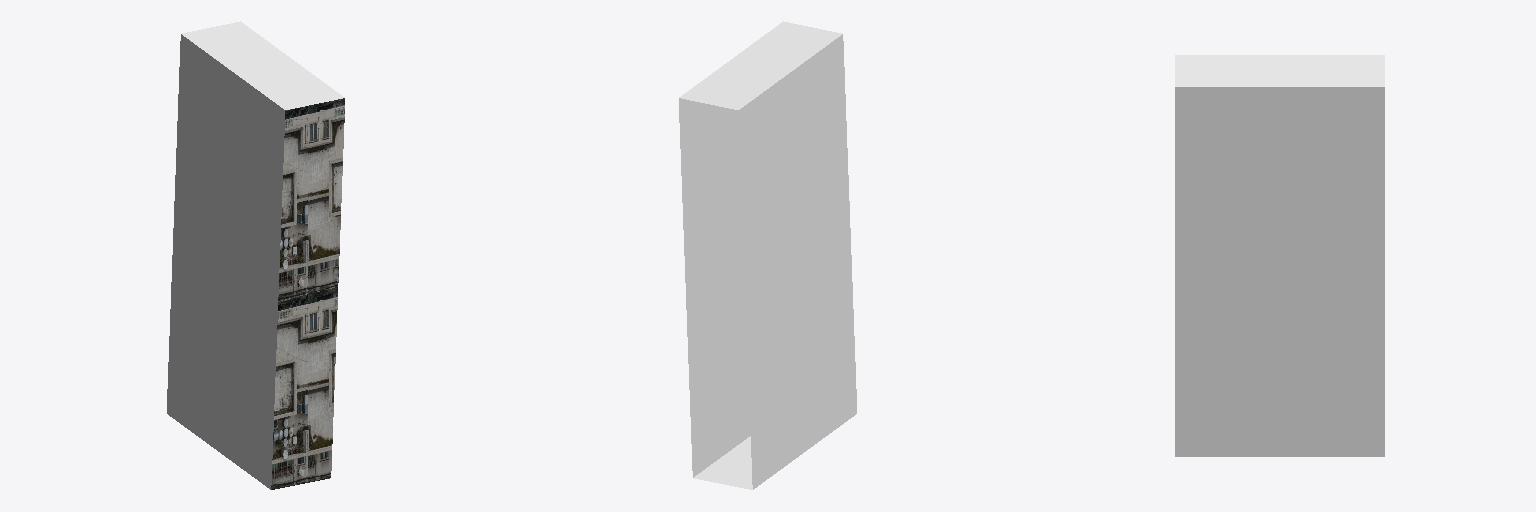
3 views of the same model, side by side, from view 1: azimuth 30°, elevation 25°; view 2: azimuth 150°, elevation 25°; view 3: azimuth 270°, elevation 25° (orthographic).
Visible parts, largest first — view 1: Building; view 2: Building; view 3: Building.
Part boxes in pixels (bbox=[...]): Building: bbox=[167, 21, 344, 489]; Building: bbox=[679, 21, 856, 489]; Building: bbox=[1175, 55, 1384, 456].
Size of the model in its own units: 6.13 by 29.95 by 15.
2 materials, 1 textured.